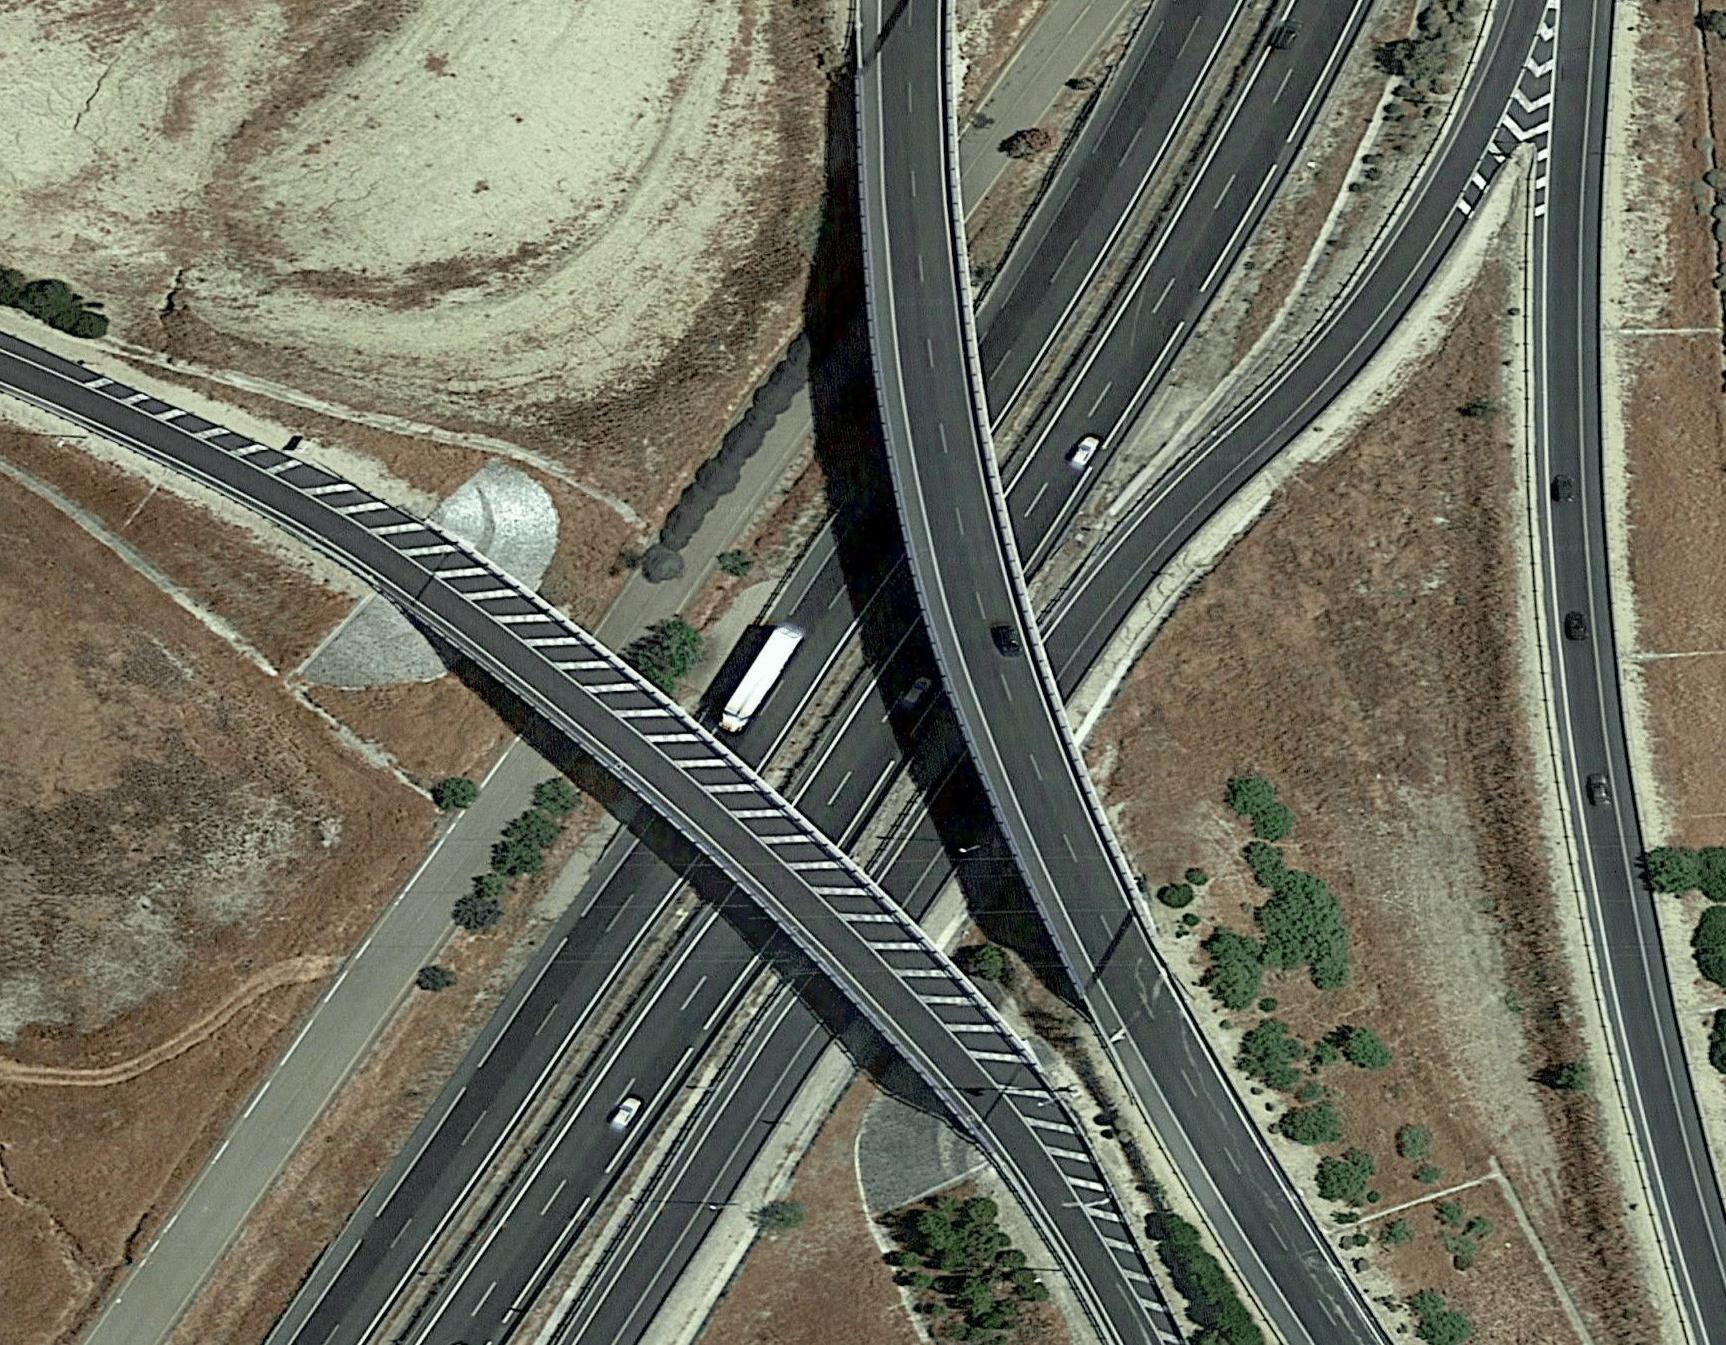bridge: (799, 213, 1306, 977), (504, 551, 1006, 1111)
large-vehicle: (714, 623, 801, 736)
